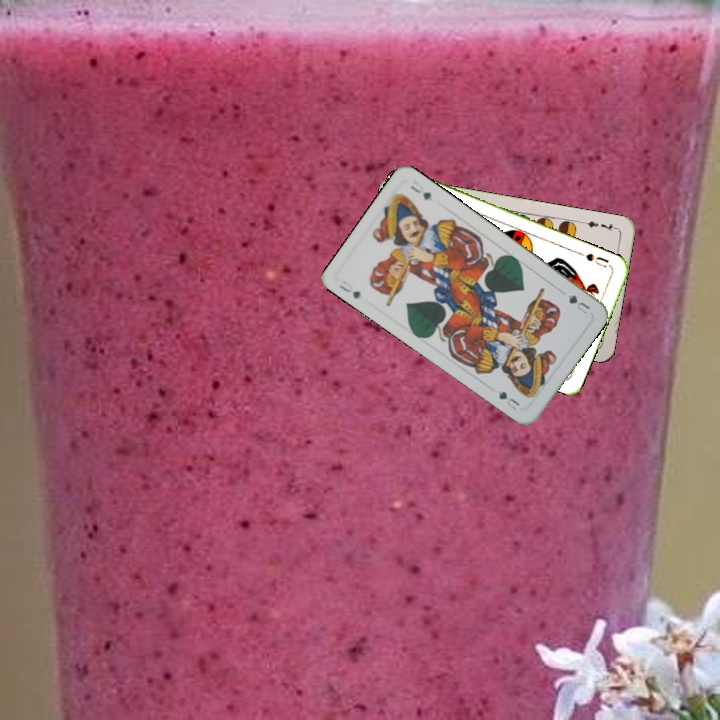E7: (579, 217, 620, 234)
GU: (563, 291, 593, 317), (335, 276, 363, 301)
SU: (581, 249, 611, 270)
